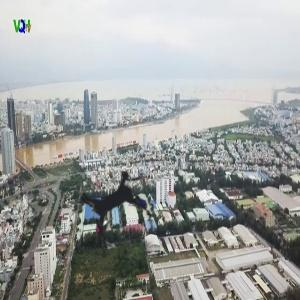drone: (45, 130, 191, 276)
